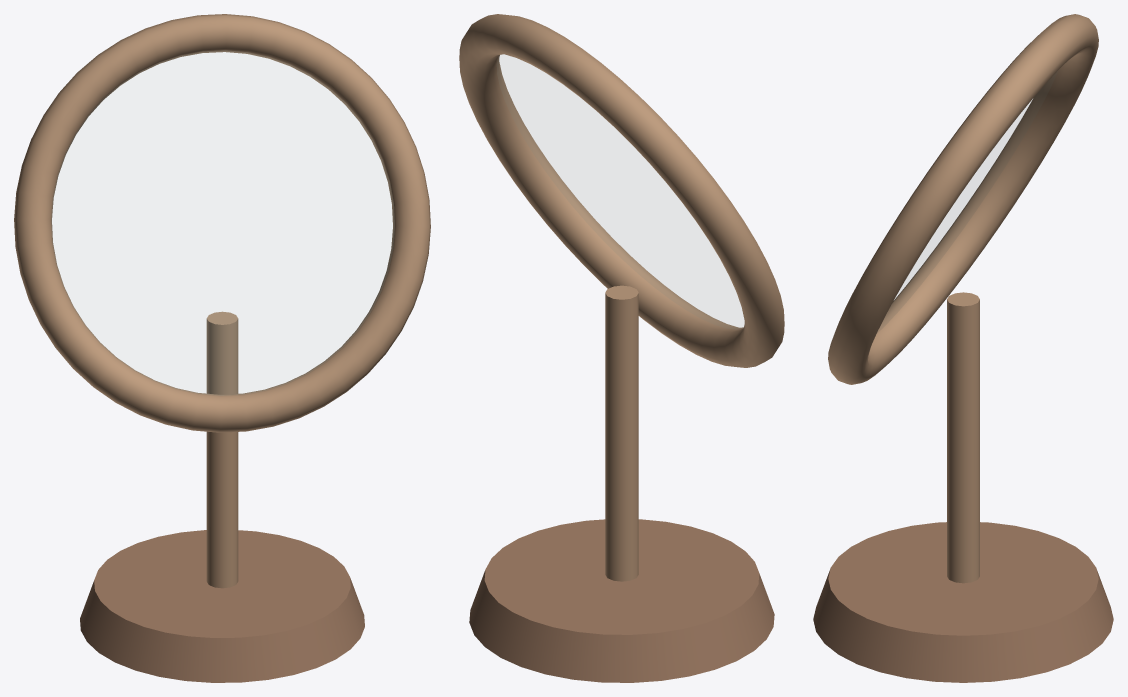
Rendered from magnifier.glb.
3 renders of one model, left to right at view 1: azimuth 30°, elevation 25°; view 2: azimuth 150°, elevation 25°; view 3: azimuth 270°, elevation 25°, orthographic. The views are drawn at different scales.
Parts seen in each view (by area): view 1: magnifier; view 2: magnifier; view 3: magnifier.
Part boxes in pixels (x1=…): magnifier: x1=14, y1=14, x2=430, y2=682; magnifier: x1=459, y1=14, x2=784, y2=682; magnifier: x1=813, y1=14, x2=1113, y2=682.
Size of the model in its own units: 0.8276 by 1.32 by 0.6.
